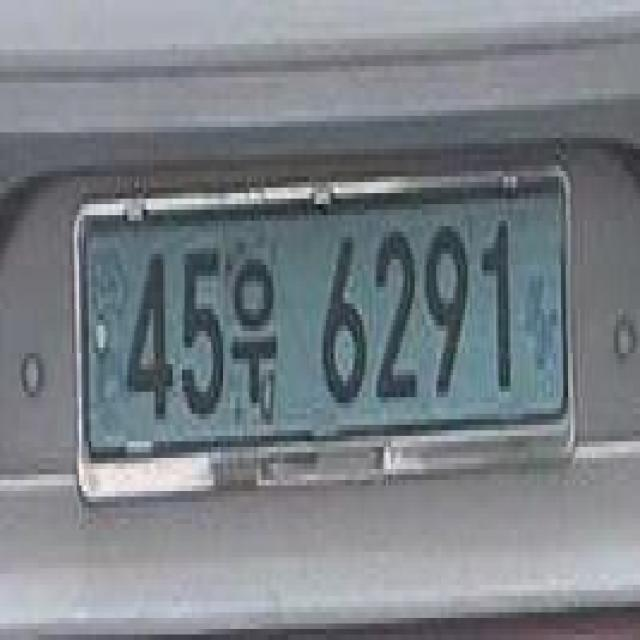EV_plate: (69, 150, 584, 521)
